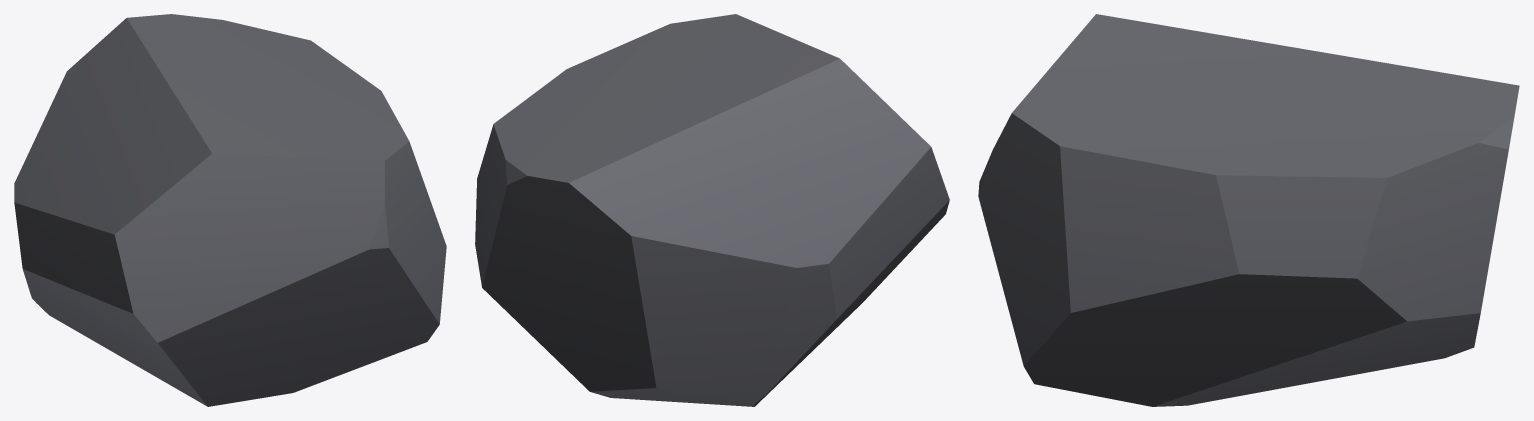
The model's file is SmallRock_04.fbx.
3 views of the same model, side by side, from view 1: azimuth 30°, elevation 25°; view 2: azimuth 150°, elevation 25°; view 3: azimuth 270°, elevation 25° (orthographic). The views are drawn at different scales.
Visible parts, largest first — view 1: SmallRock_04_LOD0; view 2: SmallRock_04_LOD0; view 3: SmallRock_04_LOD0.
Part boxes in pixels (left/top/right/bottom): SmallRock_04_LOD0: left=14, top=14, right=446, bottom=406; SmallRock_04_LOD0: left=475, top=14, right=949, bottom=406; SmallRock_04_LOD0: left=978, top=14, right=1519, bottom=406.
Size of what is drawn, in the model's own units: 0.3919 by 0.2739 by 0.4471.
